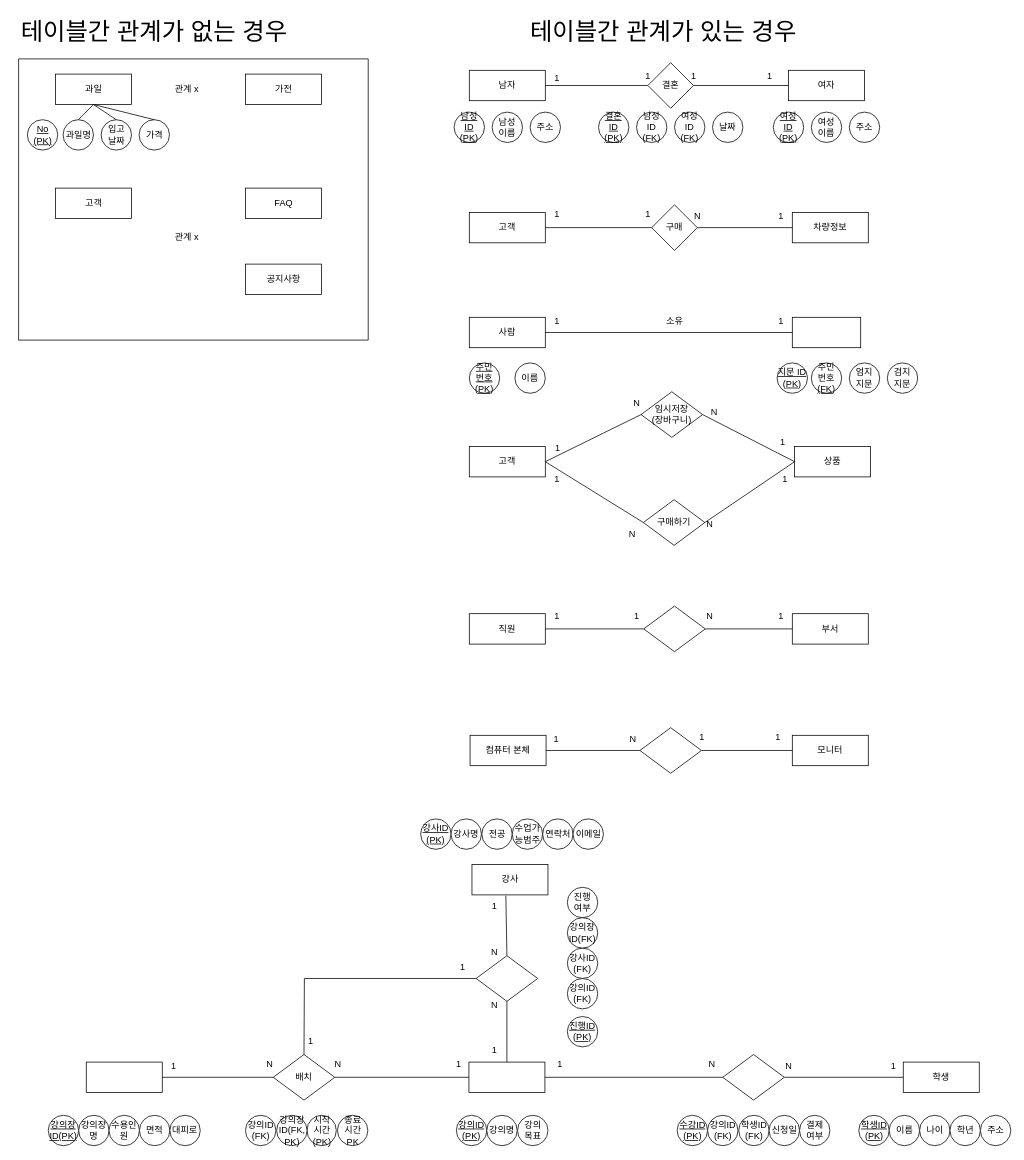
Some shapes in this 1024 by 1160 pixel diagram are drawn without their labels. The shapes that lost their labels are listed below. From the top down, each one's centre as x and y in pixels, then its label:
At [826,332]: "지문".
At [674,628]: "소속".
At [670,750]: "연결".
At [506,978]: "수업 진행".
At [124,1076]: "클래스(강의장)".
At [506,1076]: "강의".
At [753,1077]: "수강 신청".
